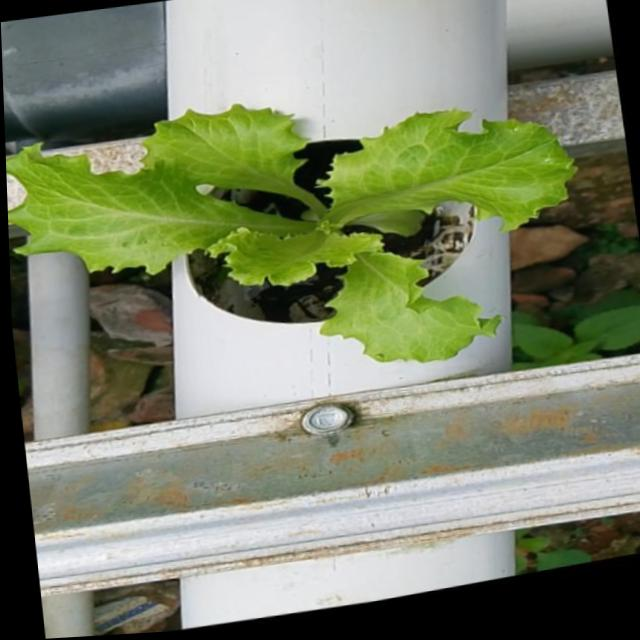Baby: (6, 109, 583, 366)
